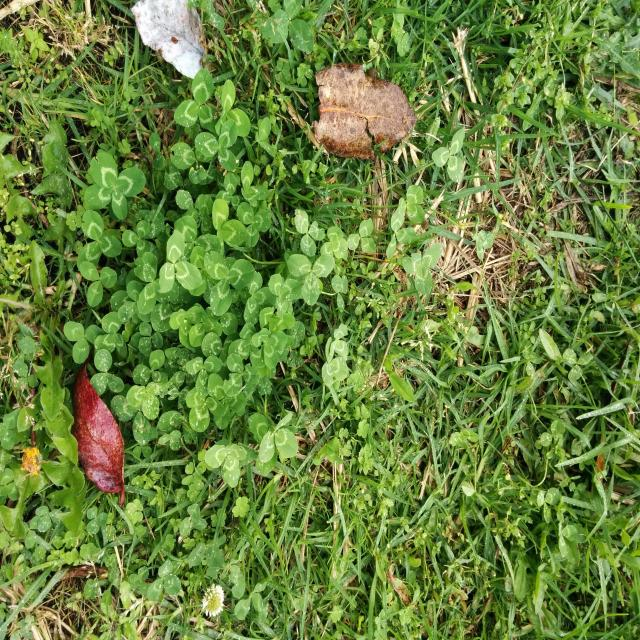Four Leaf Clover: (84, 152, 145, 220)
